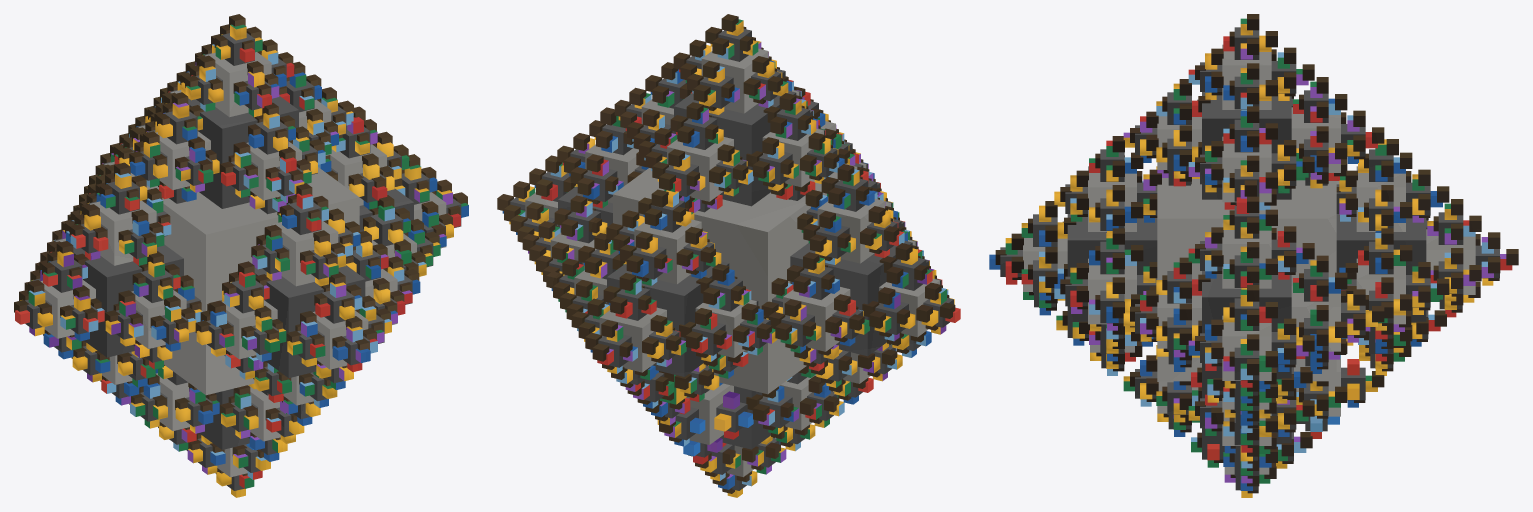
Rendered from mooncrystal.glb.
The picture shows the model from 3 angles, left to right: view 1: azimuth 30°, elevation 25°; view 2: azimuth 150°, elevation 25°; view 3: azimuth 270°, elevation 25°; orthographic projection.
Parts seen in each view (by area): view 1: CUBE_ADJUST_MARCH13; view 2: CUBE_ADJUST_MARCH13; view 3: CUBE_ADJUST_MARCH13.
Part boxes in pixels (box(x1,y1,x2,y2)): CUBE_ADJUST_MARCH13: box(14, 24, 468, 497); CUBE_ADJUST_MARCH13: box(497, 19, 960, 497); CUBE_ADJUST_MARCH13: box(989, 18, 1518, 497).
Size of what is drawn, in the model's own units: 4.31 by 4.34 by 4.34.
14 materials, 14 textured.
